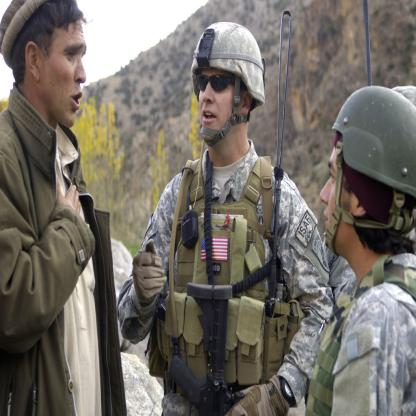Helmet: (329, 80, 413, 260), (192, 16, 267, 141)
